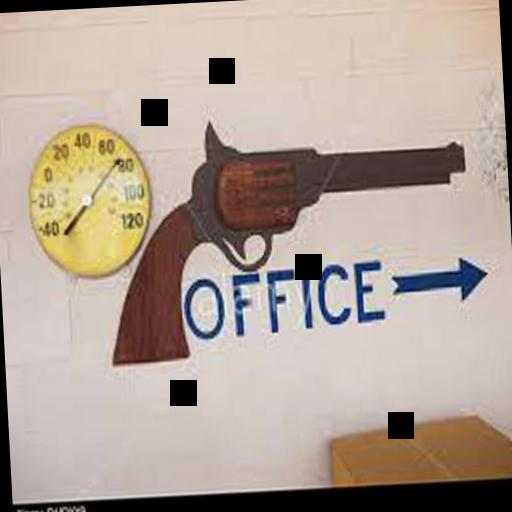Handgun: (85, 88, 479, 362)
